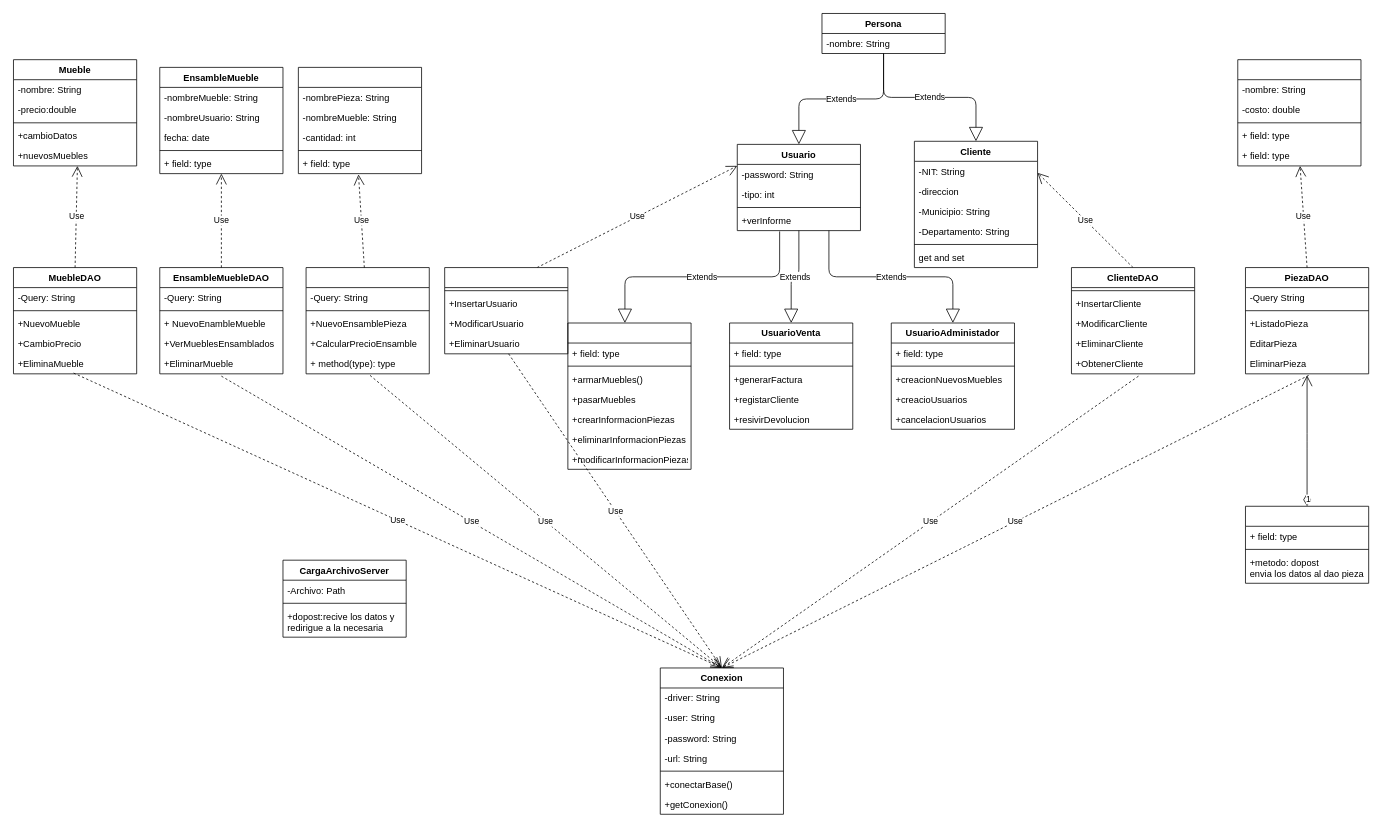
Some shapes in this 1382 by 830 pixel diagram are drawn without their labels. The shapes that lost their labels are listed below. From the top down, each one's box as (x1, y1, x2, y2) in pixels, then its label:
(298, 67, 422, 174): EnsamblePieza
(1237, 59, 1361, 166): Pieza
(305, 267, 429, 374): EnsamblePiezaDAO
(444, 267, 568, 354): UsuarioDAO
(567, 322, 691, 469): UsuarioFabrica
(1245, 506, 1369, 583): ServerPieza
